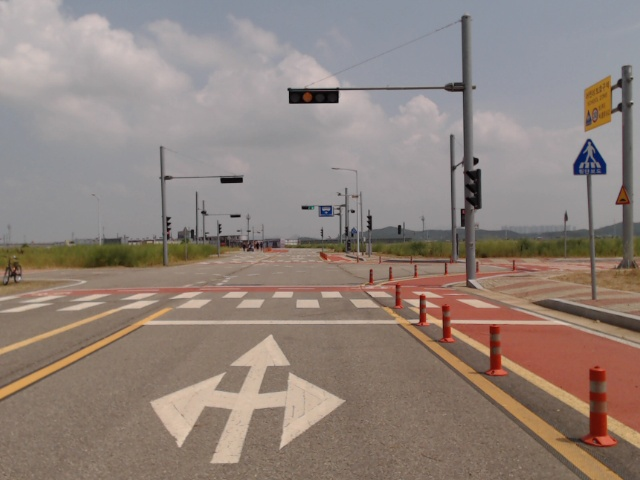orange_4: (288, 88, 339, 106)
